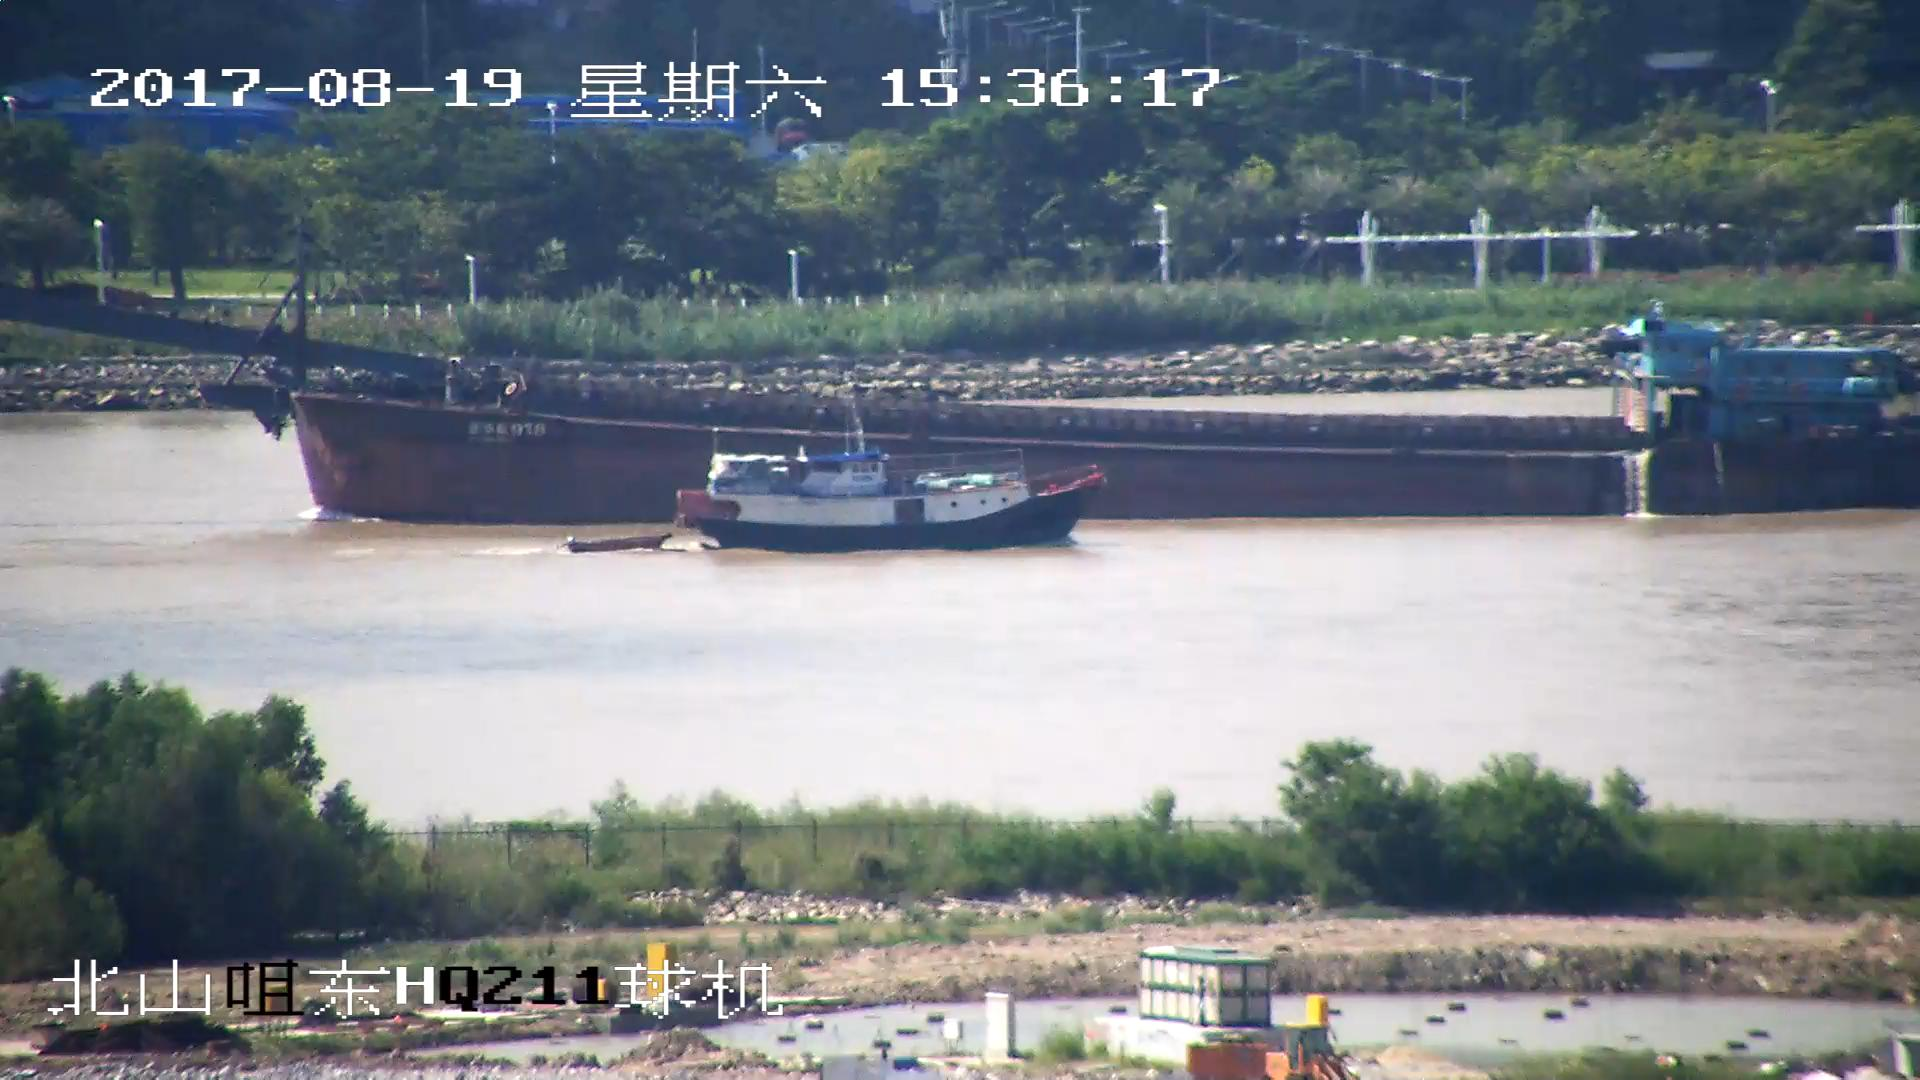bulk cargo carrier: (1, 234, 1920, 520)
fishing boat: (566, 452, 1101, 550)
